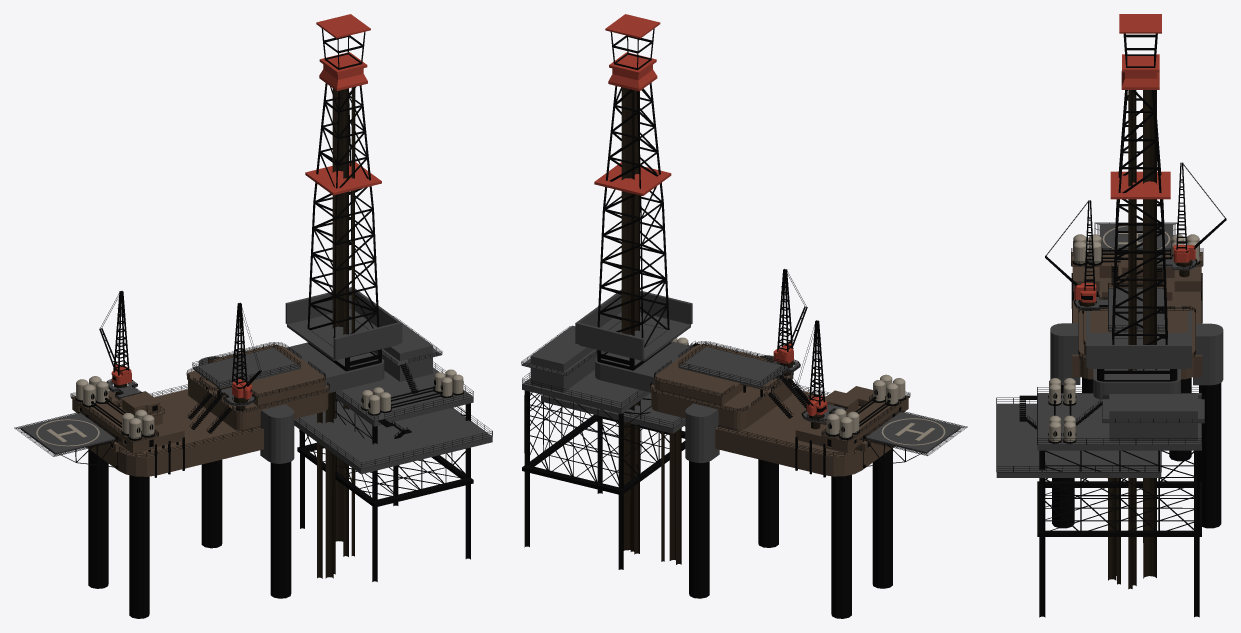
Rendered from OffshoreOilRig.fbx.
3 views of the same model, side by side, from view 1: azimuth 30°, elevation 25°; view 2: azimuth 150°, elevation 25°; view 3: azimuth 270°, elevation 25° (orthographic). The views are drawn at different scales.
Parts seen in each view (by area): view 1: NewOffshoreOilRig_LOD0; view 2: NewOffshoreOilRig_LOD0; view 3: NewOffshoreOilRig_LOD0.
Part boxes in pixels (x1,y1,x2,y2): NewOffshoreOilRig_LOD0: (14, 14, 492, 618); NewOffshoreOilRig_LOD0: (521, 14, 967, 618); NewOffshoreOilRig_LOD0: (996, 14, 1226, 617).
Size of what is drawn, in the model's own units: 9781 by 12754 by 4649.
